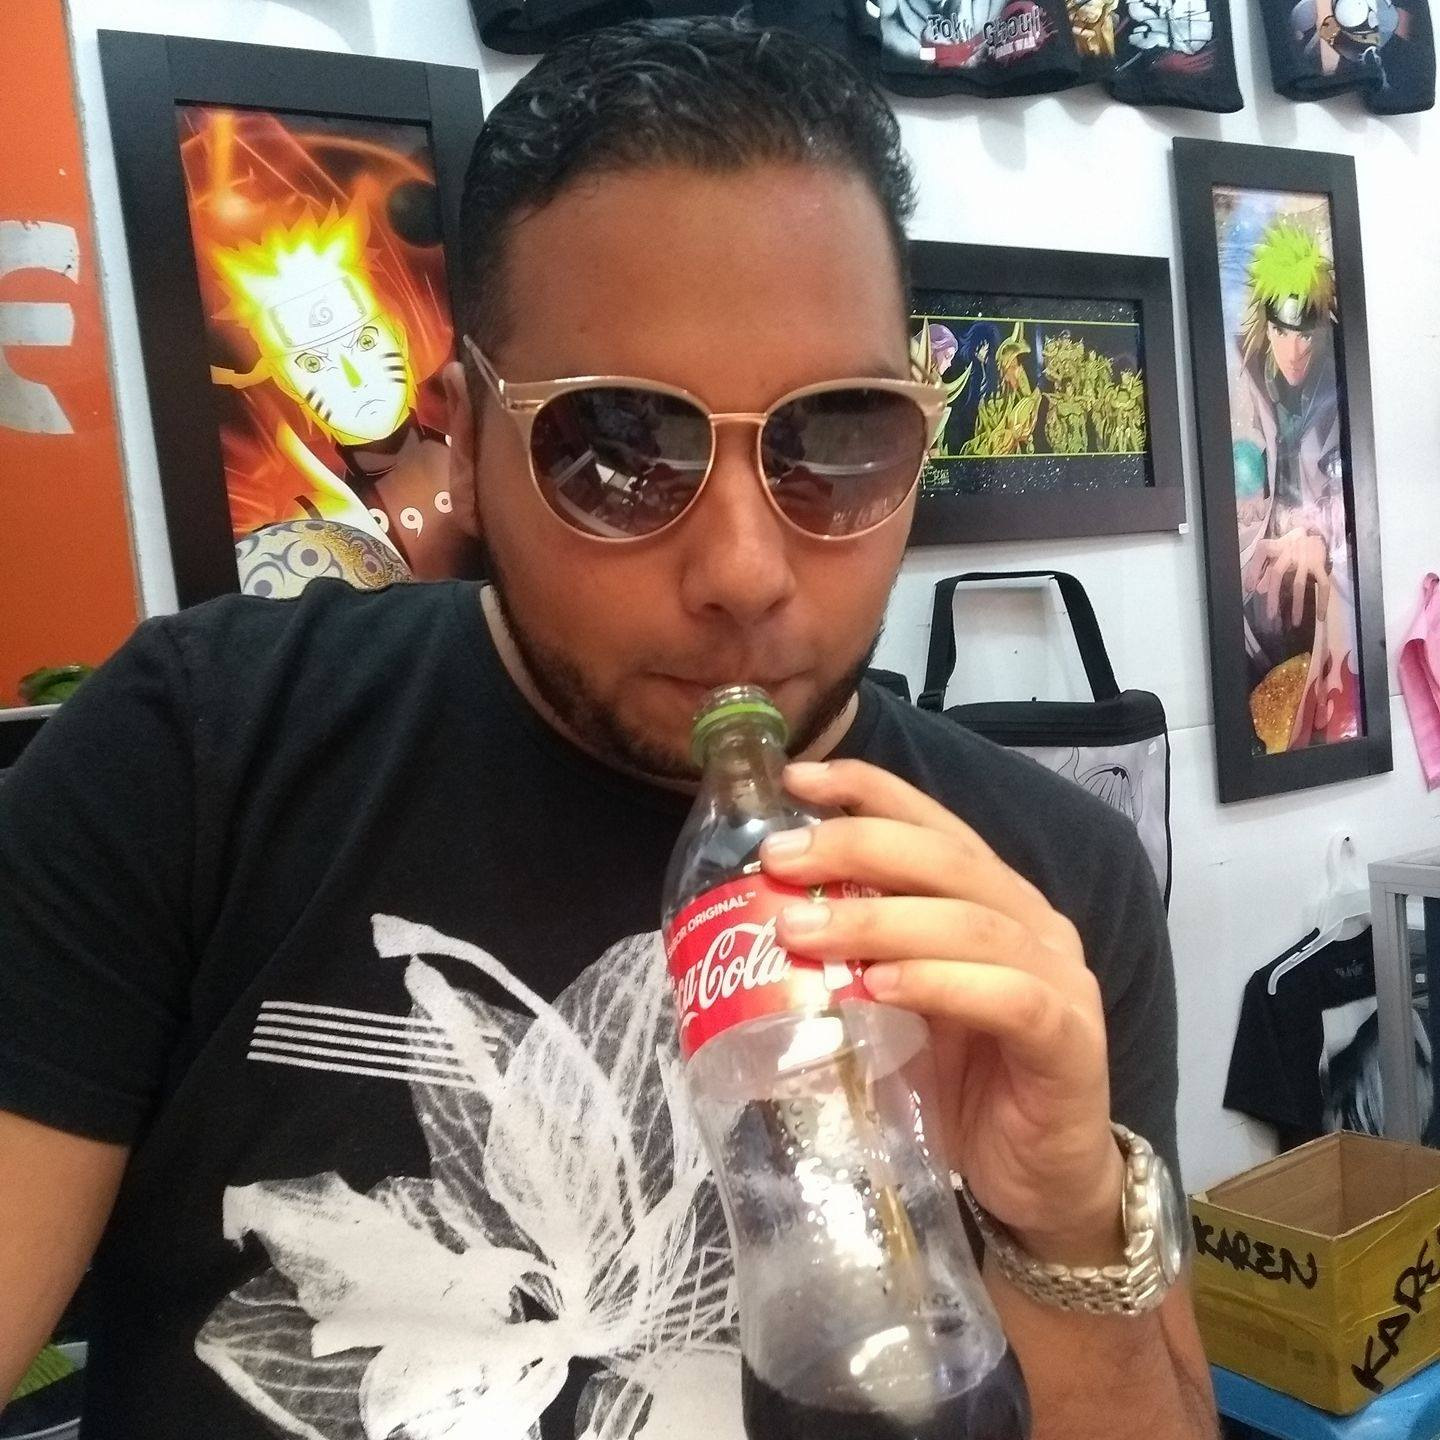Yoshi: (229, 59, 1221, 1232)
